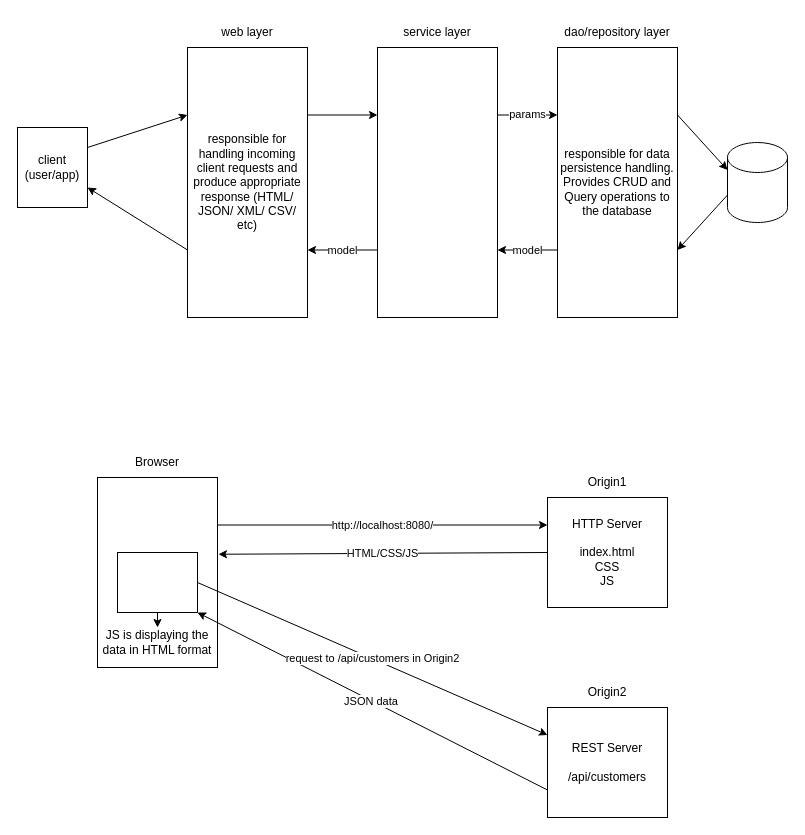
The diagram is 805 pixels wide and 835 high, and some of its shapes have lost their labels. Here are the shapes that lost their labels. From the top down, the centre of each, then its label:
[437,182]: responsible for the business logic of the application
[157,582]: "fetch" api call in the JS that came from Origin1
